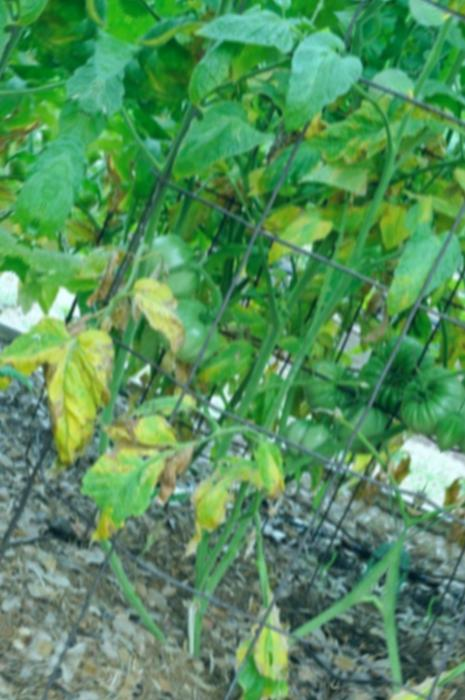Tomato Early blight leaf: (60, 399, 200, 565), (166, 422, 310, 583), (16, 314, 134, 465), (111, 270, 209, 371), (263, 202, 335, 281), (366, 194, 420, 256)
Tomato leaf: (261, 24, 368, 154), (166, 84, 269, 199), (199, 0, 300, 66)
